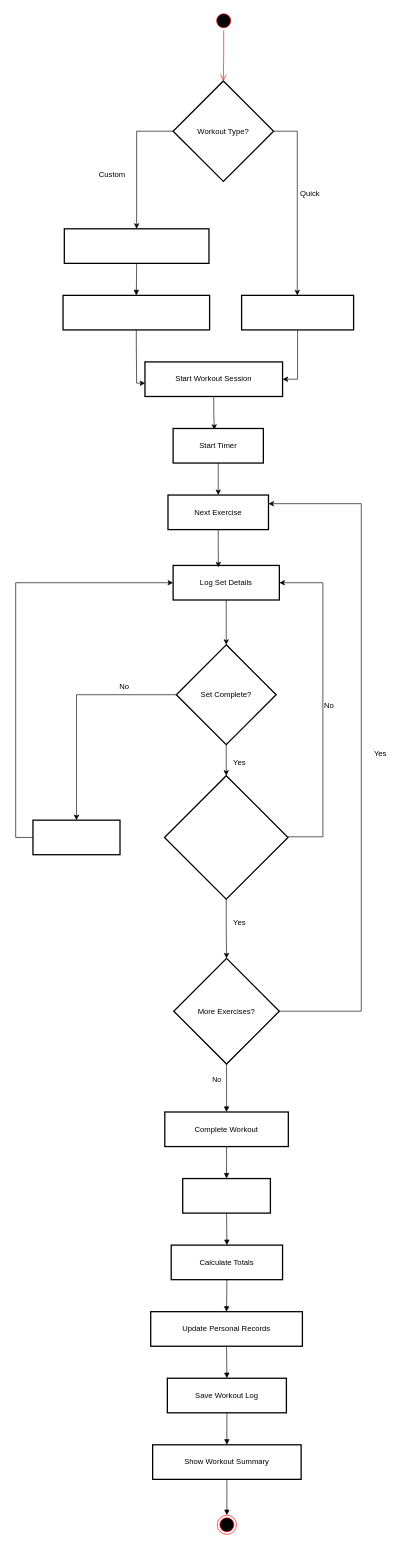
Image size: 411x1546. Some labels were removed from this diagram. The centre of each missing label's shape, as x and y in pixels:
Exercise Complete?: (226,837)
Load Workout Template: (136,312)
Rest Timer: (76,837)
Select Custom Workout: (136,246)
Select Exercises: (297,312)
Stop Timer: (226,1195)
